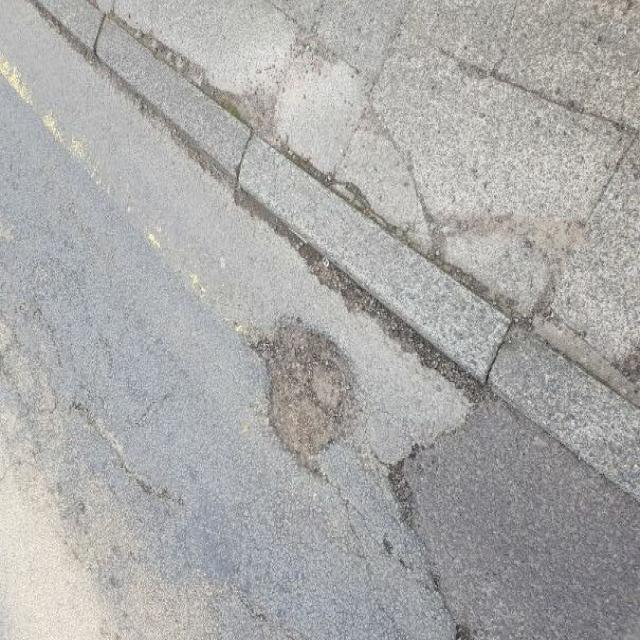pothole: (240, 312, 364, 482)
